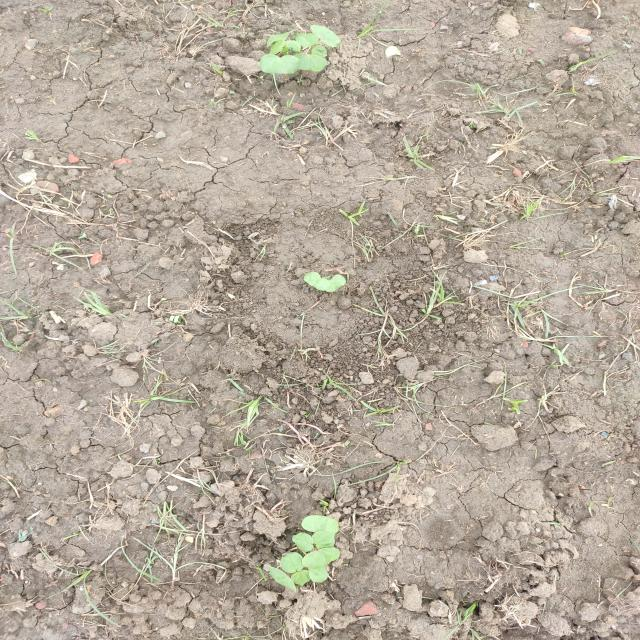seedling_s4: (302, 547, 340, 568), (260, 54, 299, 73), (310, 25, 342, 47), (269, 566, 296, 592), (301, 515, 339, 533), (294, 53, 327, 72), (267, 29, 298, 47), (280, 552, 304, 573), (304, 272, 330, 291), (312, 531, 336, 549), (292, 532, 313, 552), (325, 274, 346, 292), (308, 565, 328, 583), (295, 33, 318, 47), (291, 570, 311, 586), (282, 40, 301, 53), (269, 40, 286, 54), (311, 45, 328, 57)
